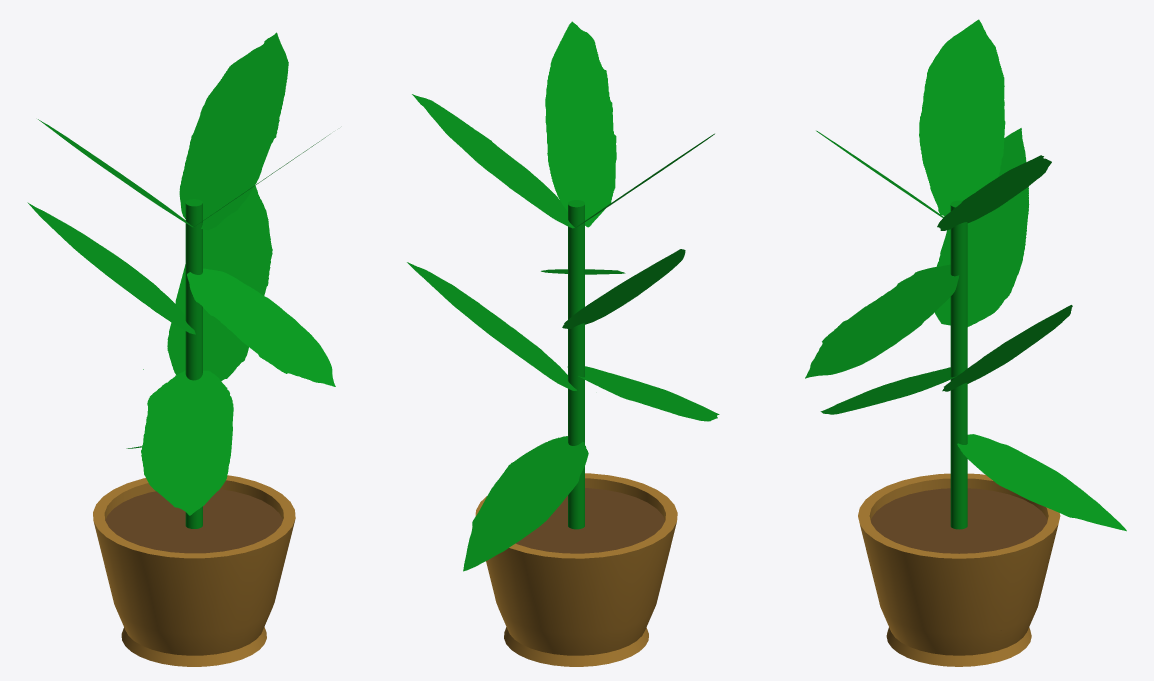
The model's file is Desk Plant.fbx.
3 renders of one model, left to right at view 1: azimuth 30°, elevation 25°; view 2: azimuth 150°, elevation 25°; view 3: azimuth 270°, elevation 25°, orthographic.
Visible parts, largest first — view 1: Cylinder; view 2: Cylinder; view 3: Cylinder.
Part boxes in pixels (<box>): Cylinder: <box>27,32,335,666</box>; Cylinder: <box>407,21,719,666</box>; Cylinder: <box>805,19,1126,666</box>.
Bounding box in the file's own units: 351 × 596 × 354.
